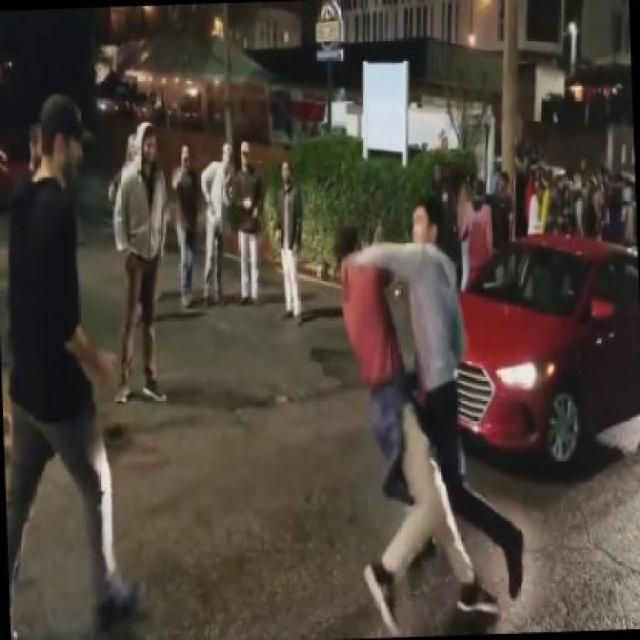fight: (332, 196, 502, 635)
non-fight: (0, 86, 125, 639), (110, 119, 168, 404), (170, 140, 267, 308), (273, 160, 307, 320)
